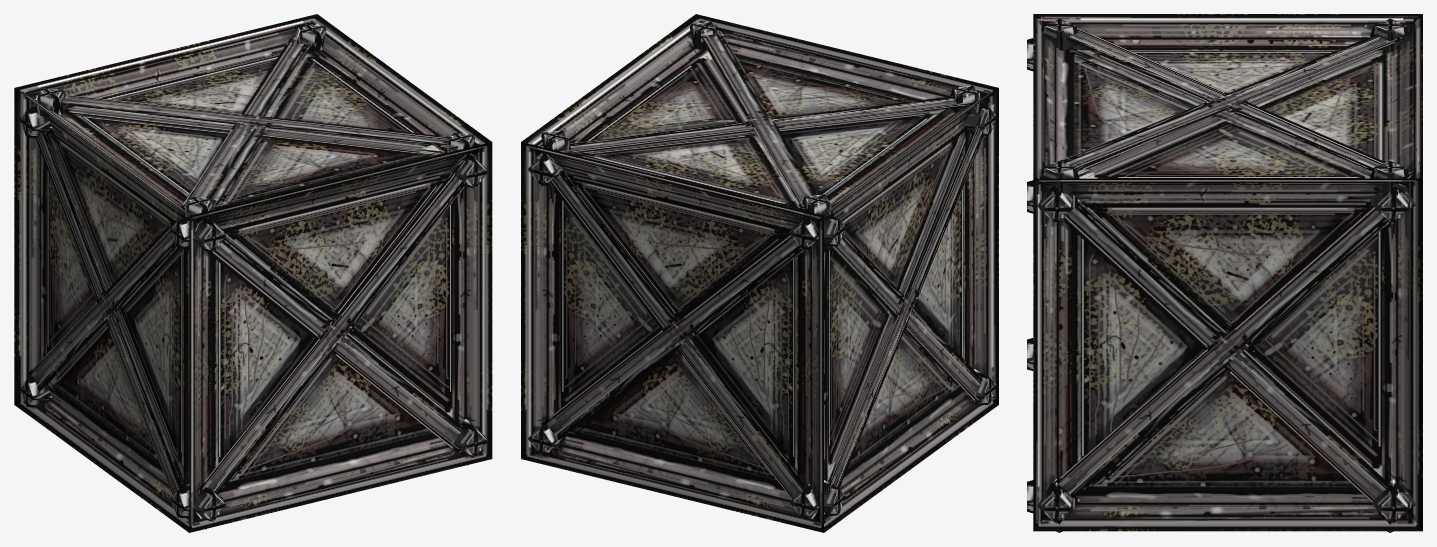
3 views of the same model, side by side, from view 1: azimuth 30°, elevation 25°; view 2: azimuth 150°, elevation 25°; view 3: azimuth 270°, elevation 25° (orthographic). The views are drawn at different scales.
Visible parts, largest first — view 1: Sci-Fi_Crate_Mesh_LOD_3; view 2: Sci-Fi_Crate_Mesh_LOD_3; view 3: Sci-Fi_Crate_Mesh_LOD_3.
Part boxes in pixels (bbox=[...]): Sci-Fi_Crate_Mesh_LOD_3: bbox=[14, 14, 492, 532]; Sci-Fi_Crate_Mesh_LOD_3: bbox=[521, 14, 998, 532]; Sci-Fi_Crate_Mesh_LOD_3: bbox=[1027, 14, 1422, 532].
Size of the model in its own units: 203 by 203 by 203.
Materials: 1 (1 with a texture image).
